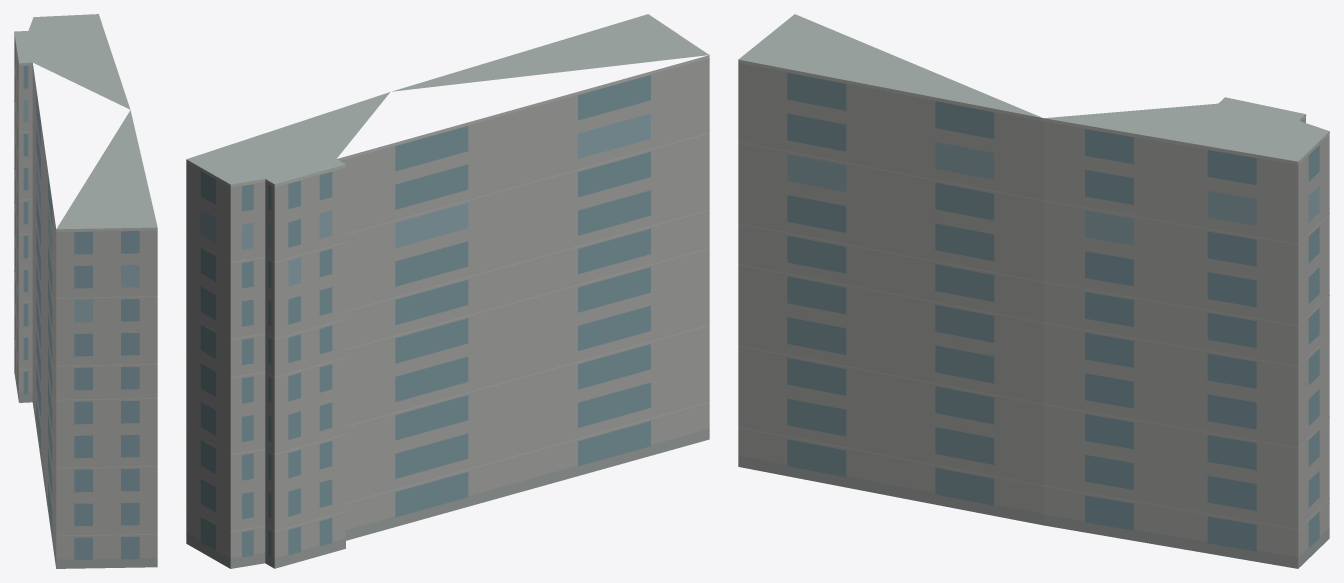
Rendered from survey-upis-32482892.glb.
3 views of the same model, side by side, from view 1: azimuth 30°, elevation 25°; view 2: azimuth 150°, elevation 25°; view 3: azimuth 270°, elevation 25° (orthographic). The views are drawn at different scales.
Visible parts, largest first — view 1: survey-upis-32482892.tmp; view 2: survey-upis-32482892.tmp; view 3: survey-upis-32482892.tmp.
Part boxes in pixels (x1,y1,x2,y2): survey-upis-32482892.tmp: [14, 14, 157, 568]; survey-upis-32482892.tmp: [186, 14, 709, 568]; survey-upis-32482892.tmp: [738, 14, 1329, 568].
Bounding box in the file's own units: 23.75 × 30.5 × 40.17.
